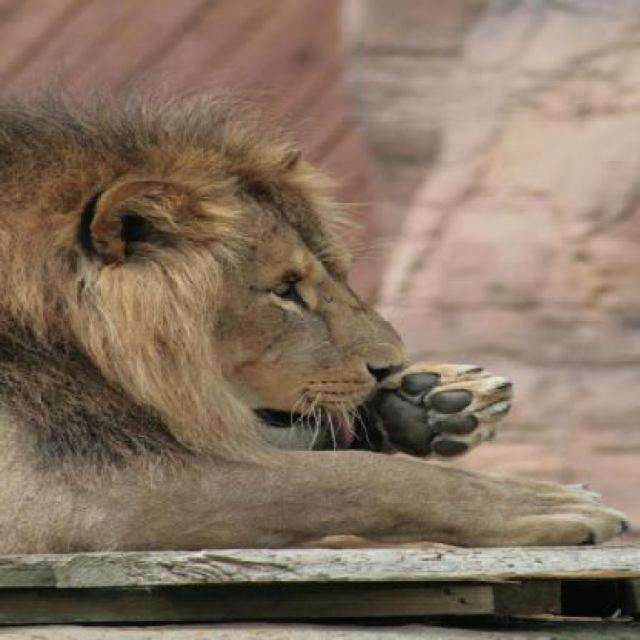Lion: (2, 100, 629, 568)
